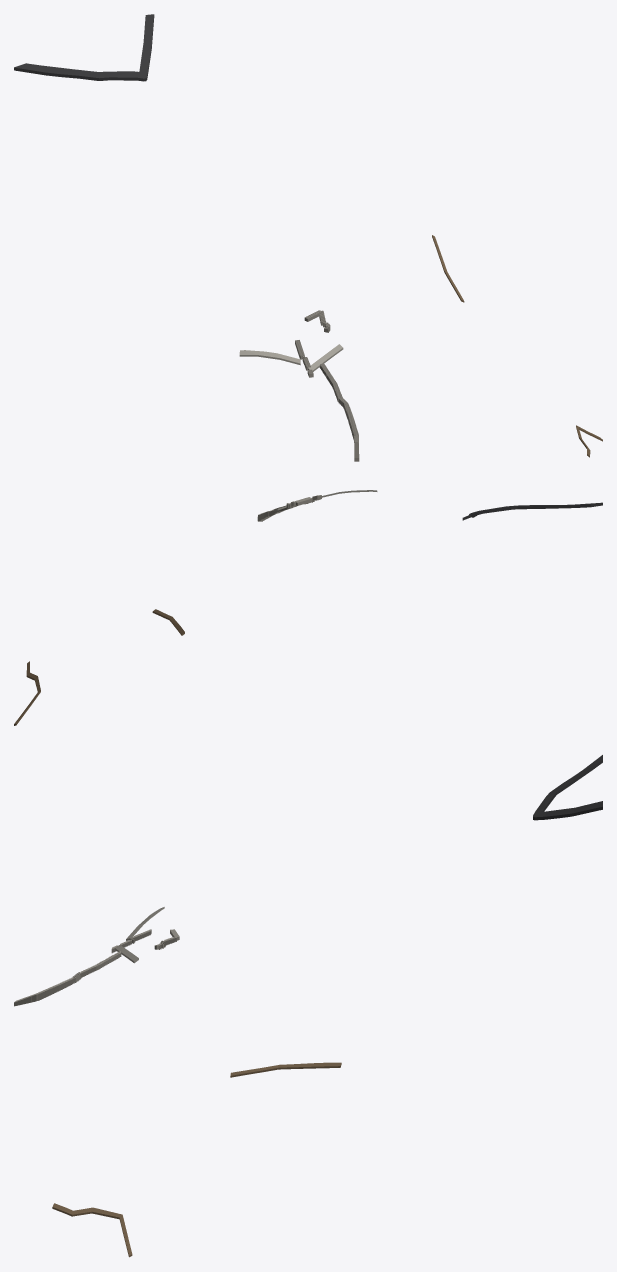
3 renders of one model, top to bottom at view 1: azimuth 30°, elevation 25°; view 2: azimuth 210°, elevation 25°; view 3: azimuth 270°, elevation 25°, orthographic. The views are drawn at different scales.
Bounding box in the file's own units: 158 × 132 × 209.
